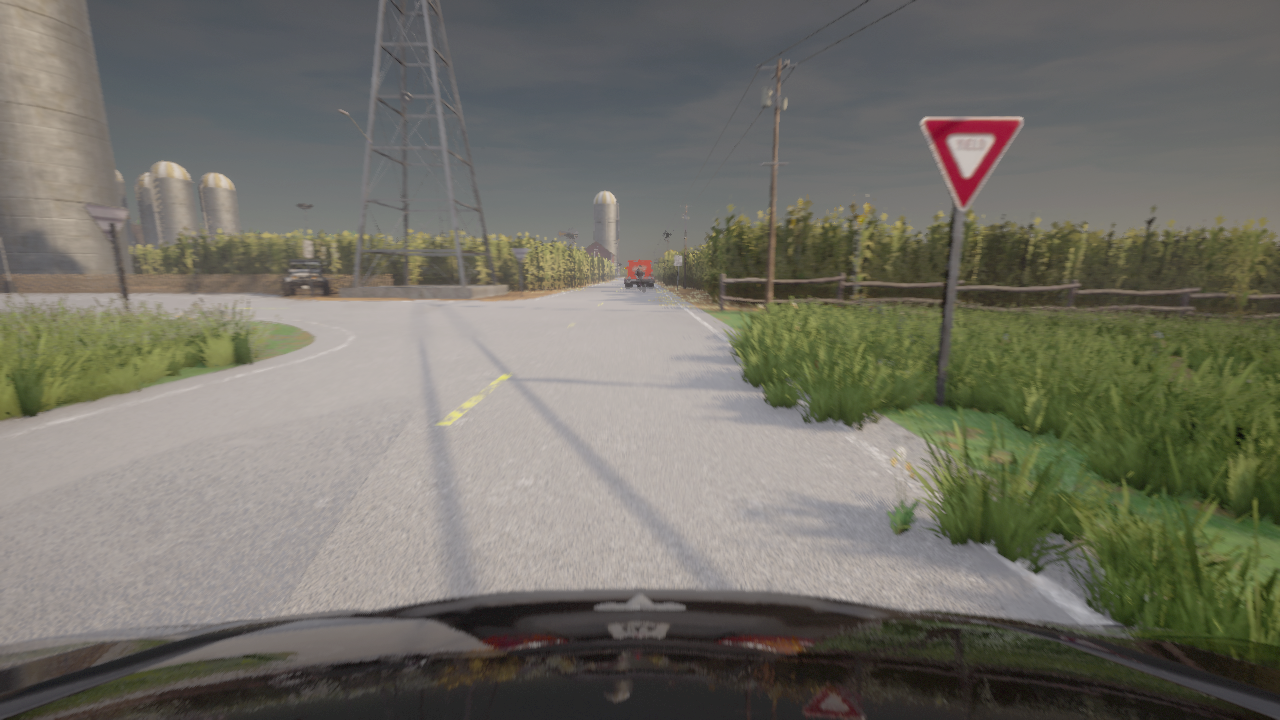cyclist: (0, 588, 1279, 719), (282, 259, 330, 295), (625, 260, 653, 286), (639, 281, 642, 289)
